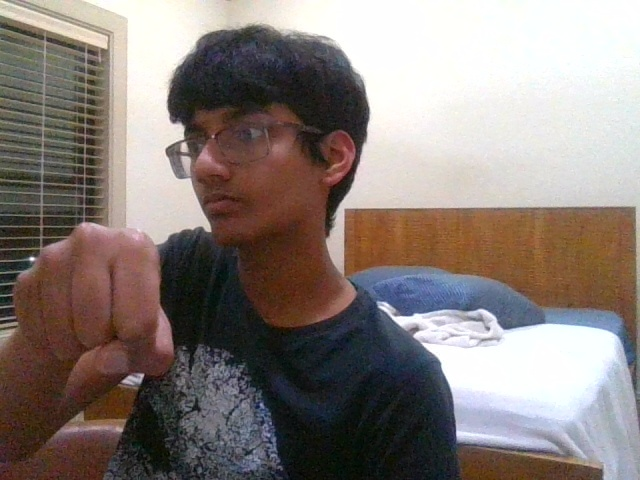yes: (13, 224, 174, 376)
